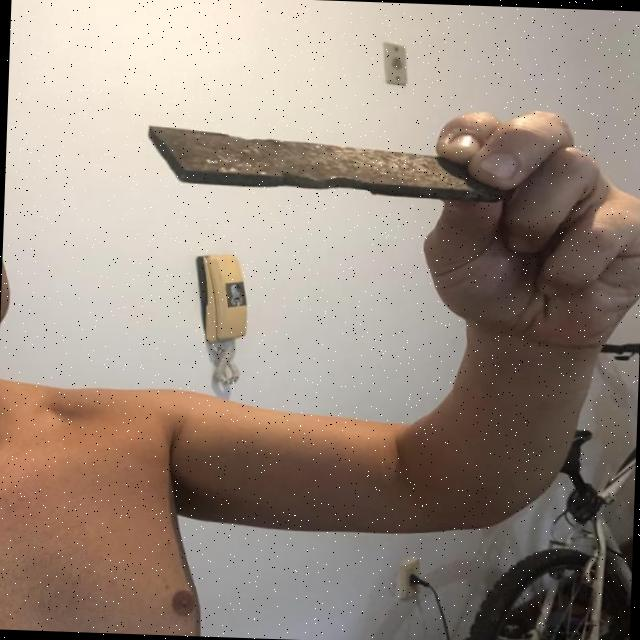Corrosion: (145, 121, 510, 202)
